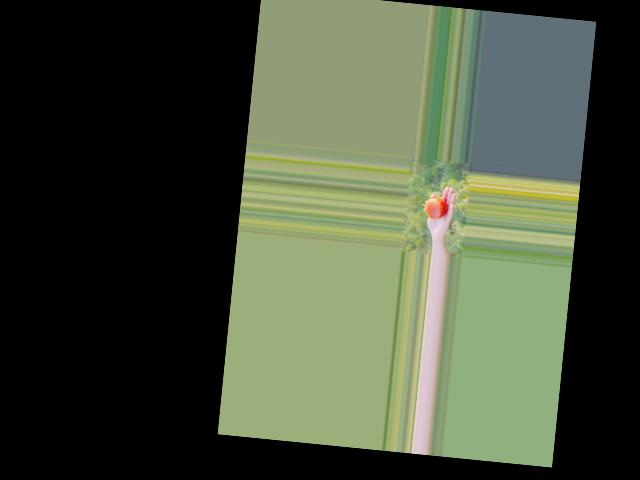tomato: (424, 196, 449, 220)
